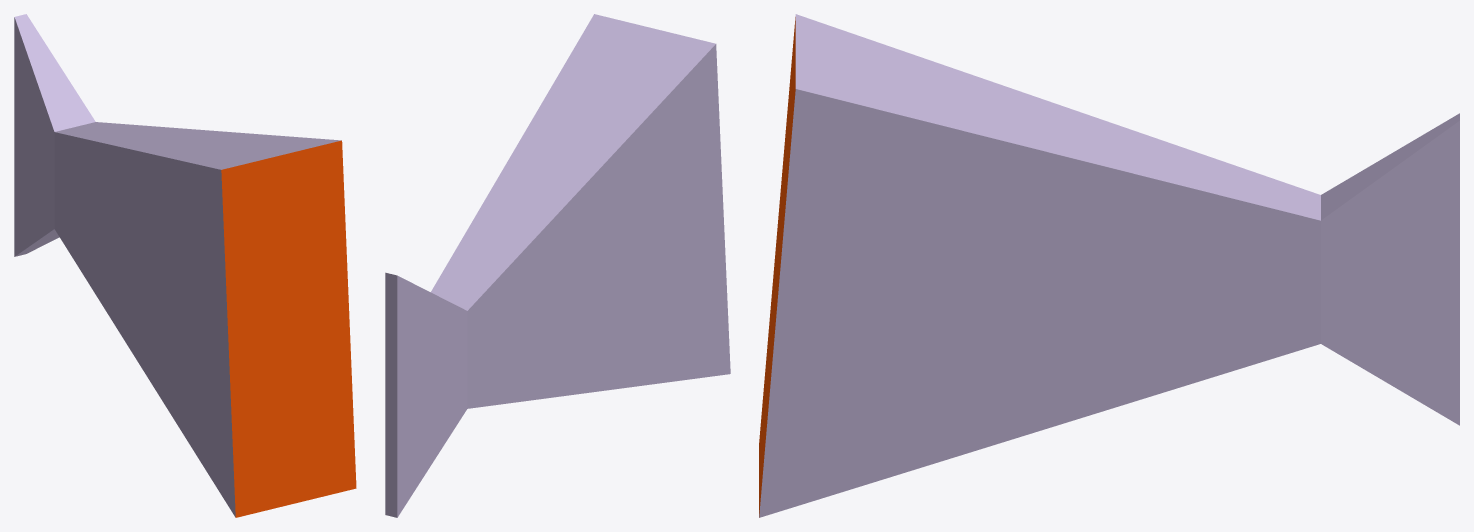
Rendered from fishhalf.fbx.
The picture shows the model from 3 angles, left to right: view 1: azimuth 30°, elevation 25°; view 2: azimuth 150°, elevation 25°; view 3: azimuth 270°, elevation 25°; orthographic projection. The views are drawn at different scales.
Parts seen in each view (by area): view 1: pCube1; view 2: pCube1; view 3: pCube1.
Part boxes in pixels (bbox=[...]): pCube1: bbox=[14, 14, 356, 517]; pCube1: bbox=[385, 14, 730, 517]; pCube1: bbox=[759, 14, 1459, 517].
Bounding box in the file's own units: 8.9 × 23.78 × 35.2.
1 material, 1 textured.
